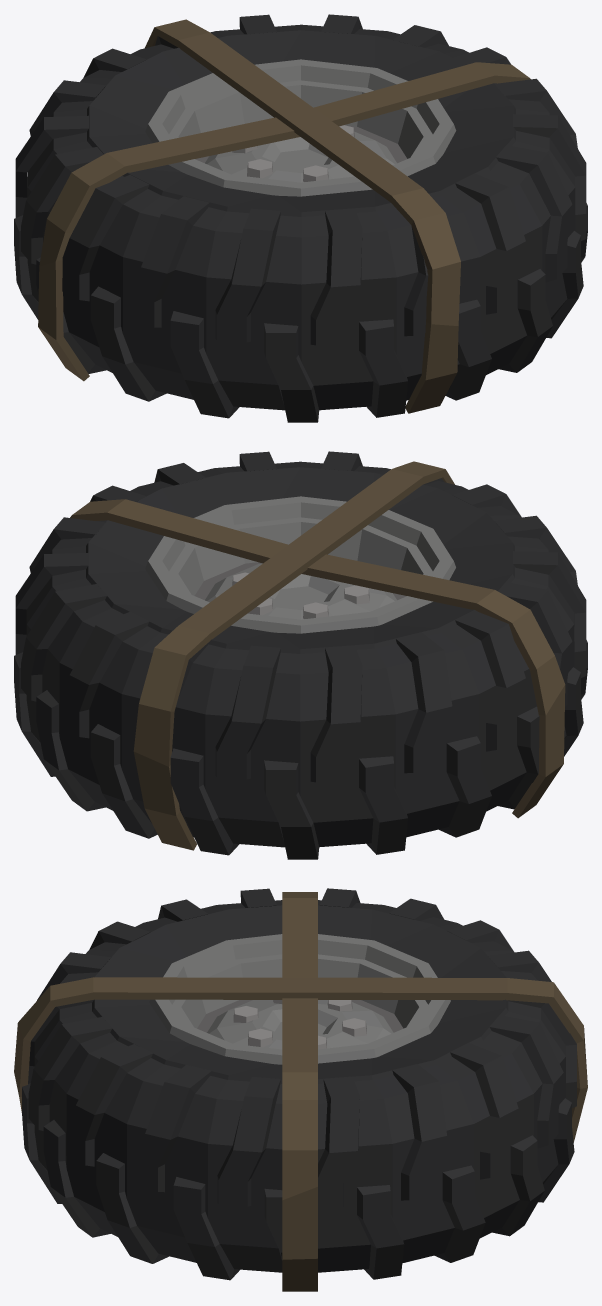
Rendered from SM_Veh_Attach_Spare_Tyre_01.fbx.
3 views of the same model, one above another, from view 1: azimuth 30°, elevation 25°; view 2: azimuth 150°, elevation 25°; view 3: azimuth 270°, elevation 25° (orthographic). The views are drawn at different scales.
Parts seen in each view (by area): view 1: SM_Veh_Attach_Spare_Tyre_01; view 2: SM_Veh_Attach_Spare_Tyre_01; view 3: SM_Veh_Attach_Spare_Tyre_01.
Boxes of the visible parts, left/top/right/bottom form: SM_Veh_Attach_Spare_Tyre_01: left=14, top=14, right=587, bottom=422; SM_Veh_Attach_Spare_Tyre_01: left=14, top=451, right=587, bottom=859; SM_Veh_Attach_Spare_Tyre_01: left=14, top=888, right=587, bottom=1291.
Size of the model in its own units: 86.15 by 33.33 by 86.88.
